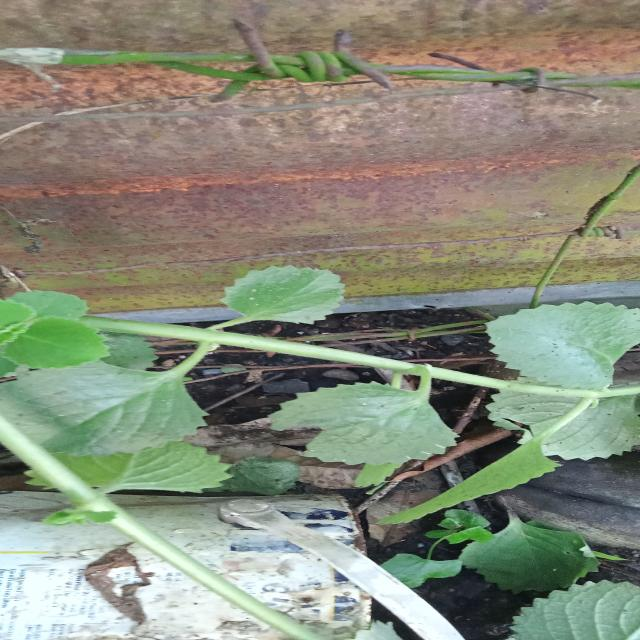Oregano: (408, 291, 640, 454), (275, 360, 486, 482), (412, 483, 630, 599), (4, 354, 220, 469), (179, 250, 387, 344), (497, 540, 640, 640), (0, 287, 137, 380)
